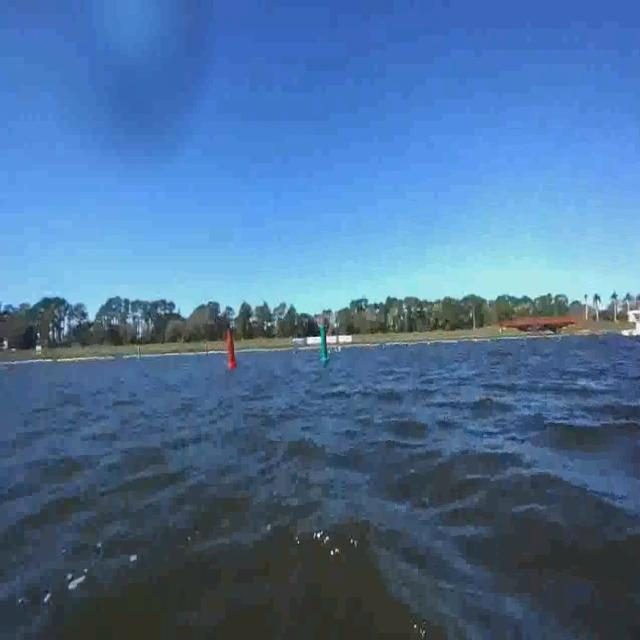green-column-buoy: (311, 309, 332, 367)
red-column-buoy: (221, 316, 242, 382)
